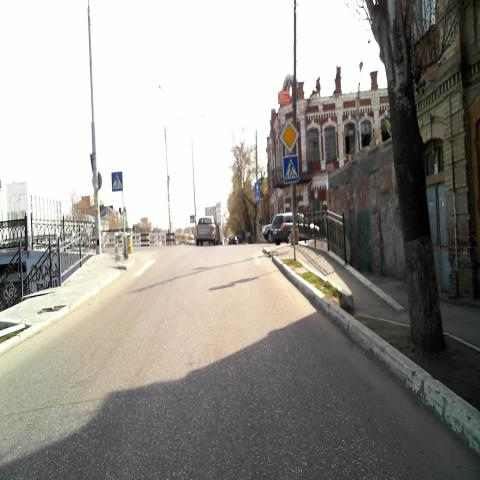2_1: (280, 119, 300, 154)
5_19_1: (283, 156, 299, 184), (112, 172, 122, 190), (255, 192, 260, 202)
5_5: (255, 182, 260, 192)
